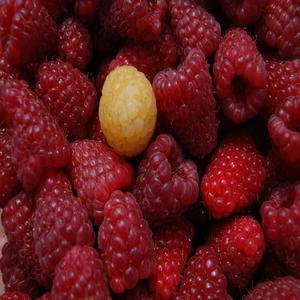raspb: (12, 1, 300, 300)
